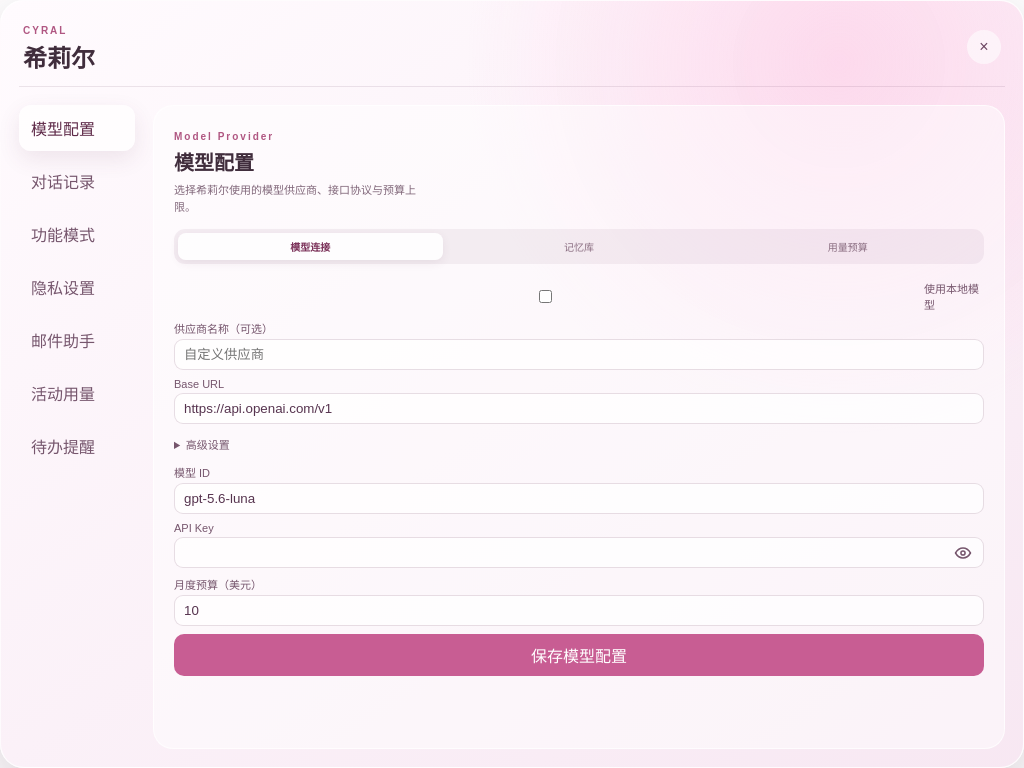
Test case: ControlPanel › loads local messages and renders them as two-sided chat bubbles
Click the tab "对话记录". click: (77, 181)
box: [19,158,135,204]
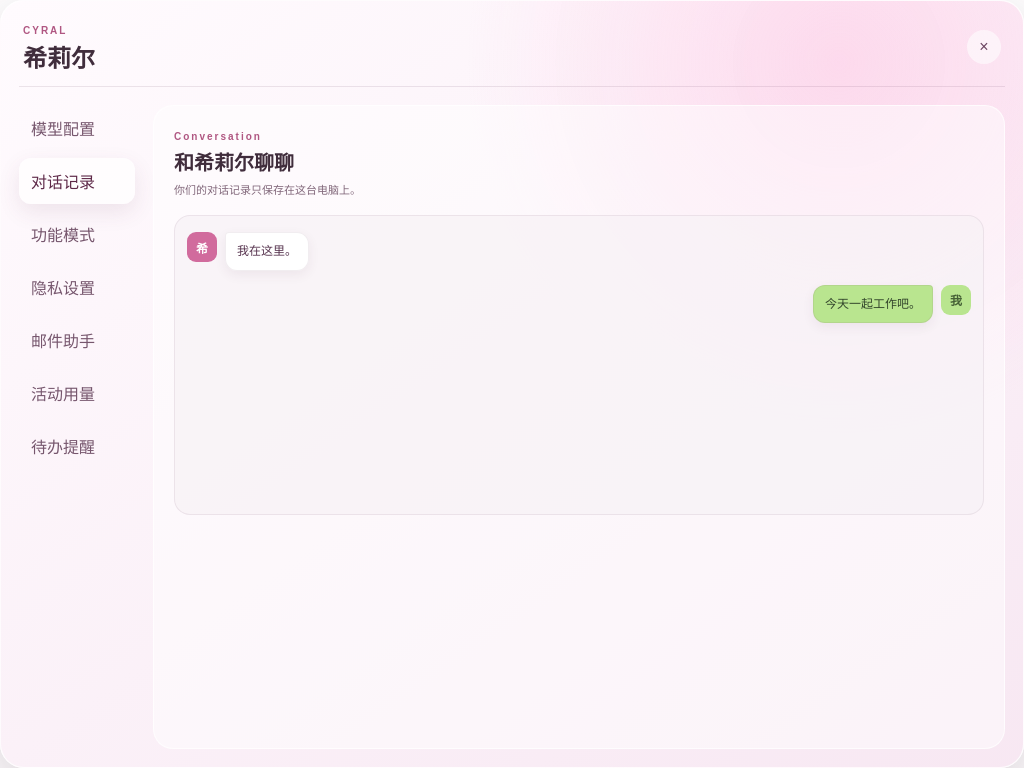
Result: the text "我在这里。" is shown at [225,232,309,271]
Result: the text "今天一起工作吧。" is shown at [813,285,933,323]
Result: the element with class "assistant" is shown at [187,232,309,271]
